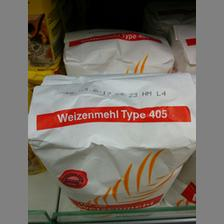Mehl: (28, 74, 196, 214)
